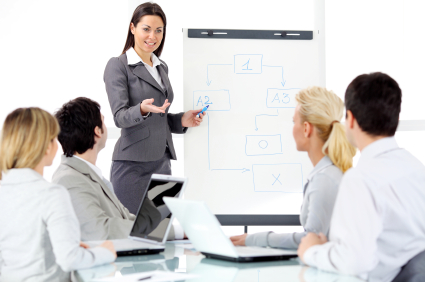Person: (104, 4, 199, 229), (343, 71, 425, 267), (1, 105, 72, 282), (275, 88, 344, 254), (57, 96, 130, 250)
